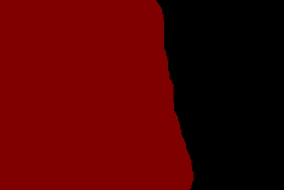Sky: (1, 1, 283, 189)
